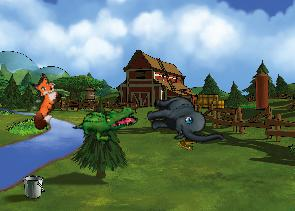crocodile: (71, 91, 140, 154)
elephant: (143, 86, 224, 157)
fox: (14, 70, 69, 132)
